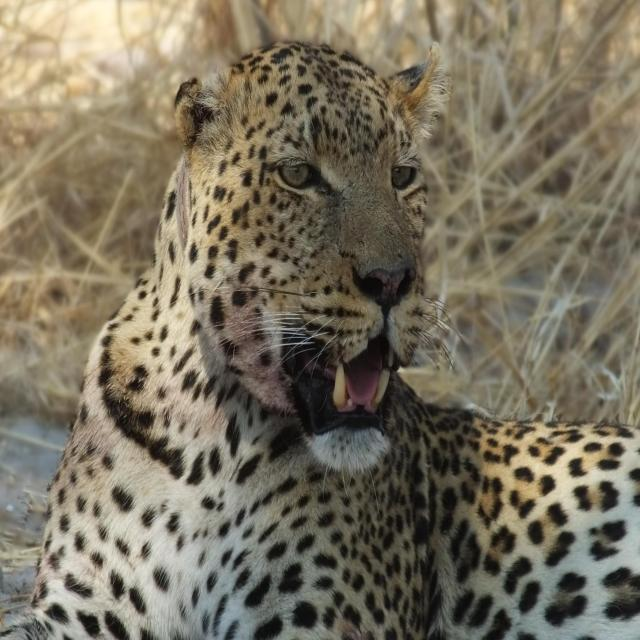Leopard: (13, 31, 638, 640)
